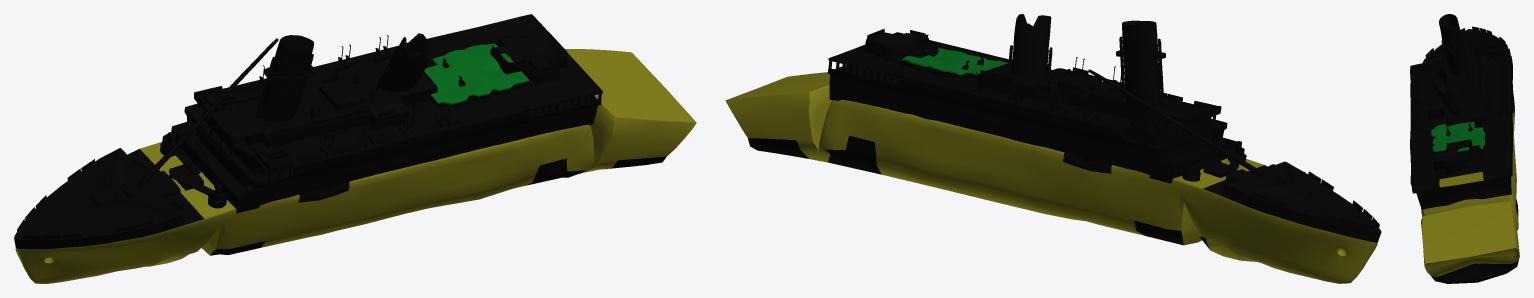
Rendered from Titanic.fbx.
The picture shows the model from 3 angles, left to right: view 1: azimuth 30°, elevation 25°; view 2: azimuth 150°, elevation 25°; view 3: azimuth 270°, elevation 25°; orthographic projection. The views are drawn at different scales.
Visible parts, largest first — view 1: Titanic; view 2: Titanic; view 3: Titanic.
Part boxes in pixels (x1,y1,x2,y2): Titanic: (14,14,696,283); Titanic: (725,14,1381,283); Titanic: (1410,14,1519,283).
Bounding box in the file's own units: 138 × 42 × 29.03.
